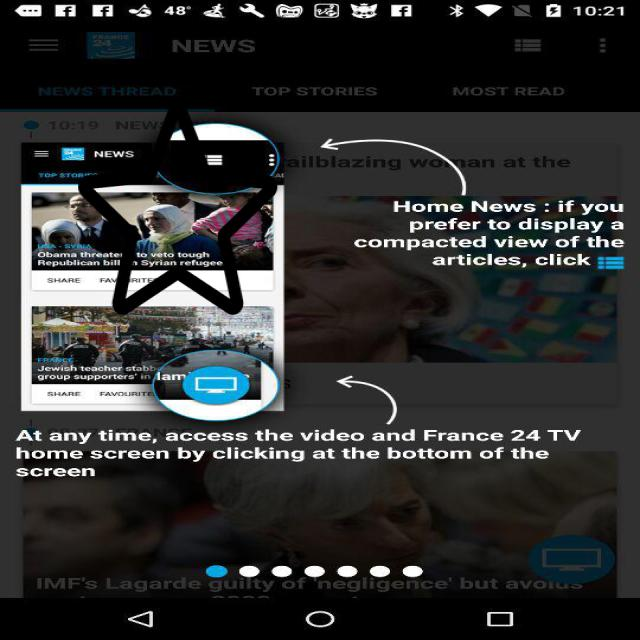forced continuity: (79, 99, 278, 319)
